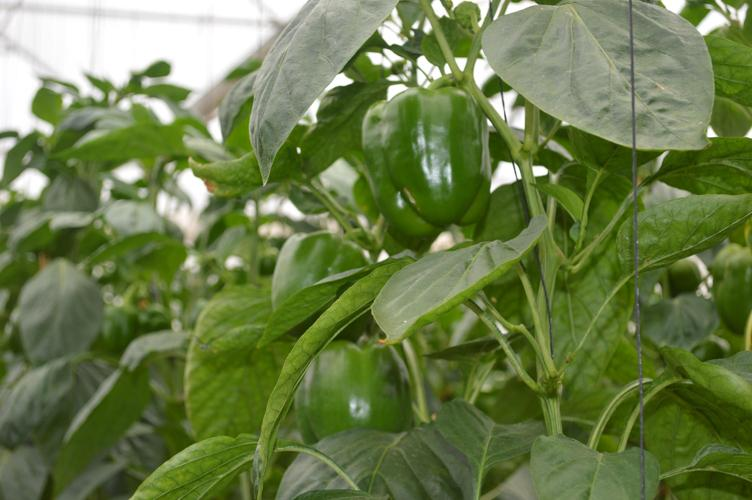BellPepper: (351, 89, 497, 244), (282, 344, 424, 447), (265, 226, 366, 330)
